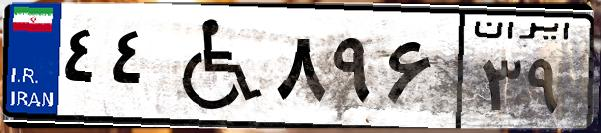3: (475, 38, 525, 113)
4: (57, 26, 110, 100), (110, 28, 158, 98)
6: (385, 28, 445, 110)
8: (270, 28, 330, 110)
9: (330, 28, 385, 110), (525, 38, 570, 115)
ژ (معلولین و جانبازان): (158, 12, 270, 120)
